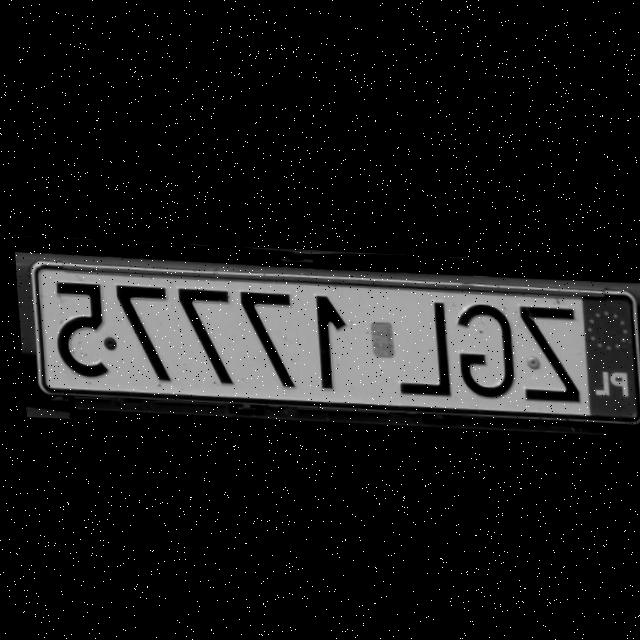license-plates: (30, 262, 640, 424)
